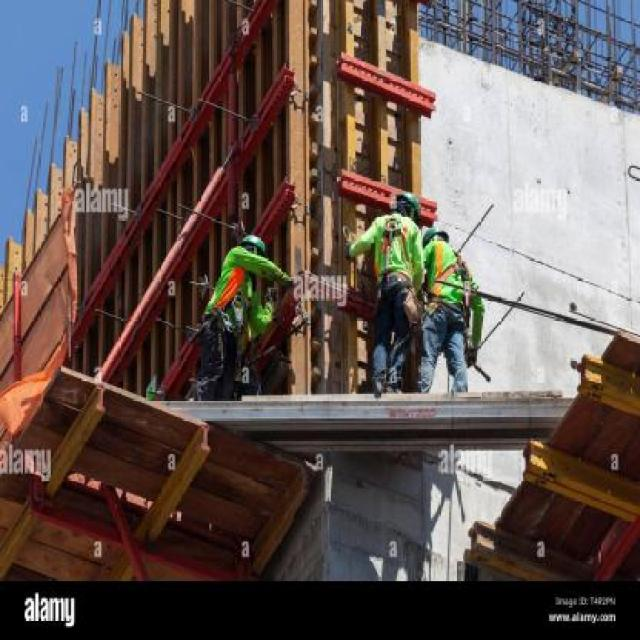Harness: (197, 275, 266, 342), (421, 248, 474, 322), (375, 214, 419, 300)
